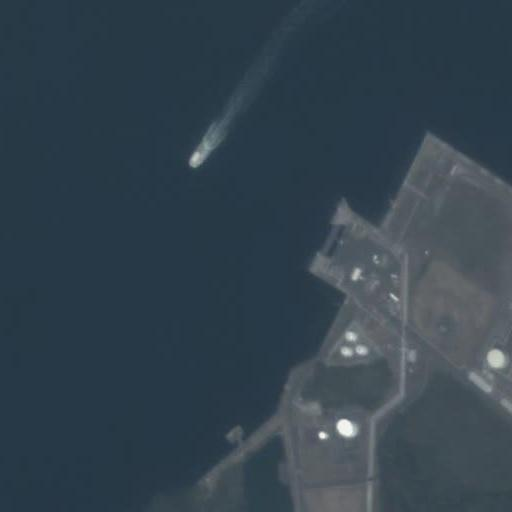person: (189, 152, 202, 168)
